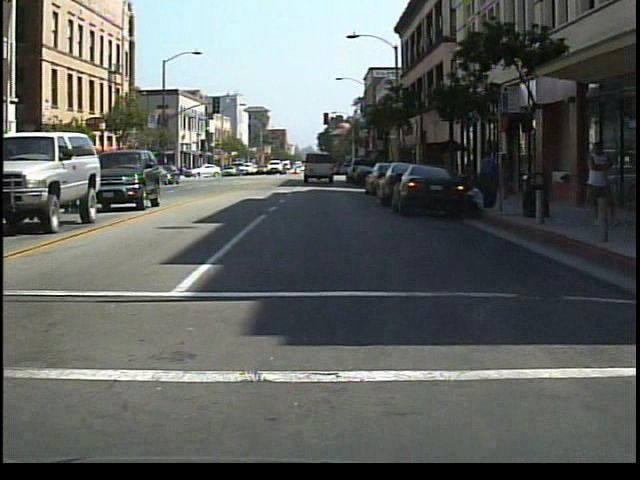person: (582, 126, 617, 232), (478, 142, 500, 203), (495, 149, 518, 207)
